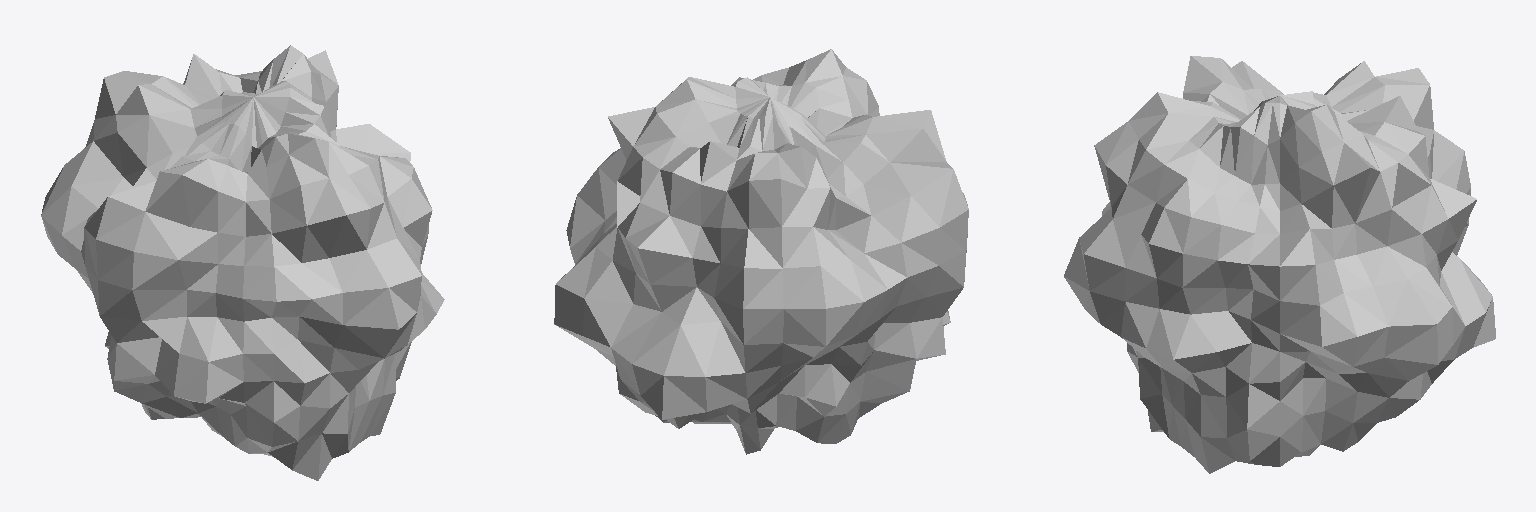
File: asteroid.obj
3 renders of one model, left to right at view 1: azimuth 30°, elevation 25°; view 2: azimuth 150°, elevation 25°; view 3: azimuth 270°, elevation 25°, orthographic.
Parts seen in each view (by area): view 1: asteroid; view 2: asteroid; view 3: asteroid.
Part boxes in pixels (x1,y1,x2,y2): asteroid: (41,45,444,480); asteroid: (554,49,968,454); asteroid: (1064,56,1495,473).
Bounding box in the file's own units: 2.32 × 2.21 × 2.41.